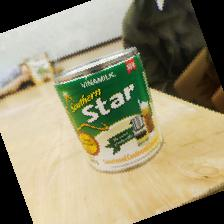NSPN_Lon: (51, 45, 164, 174)
